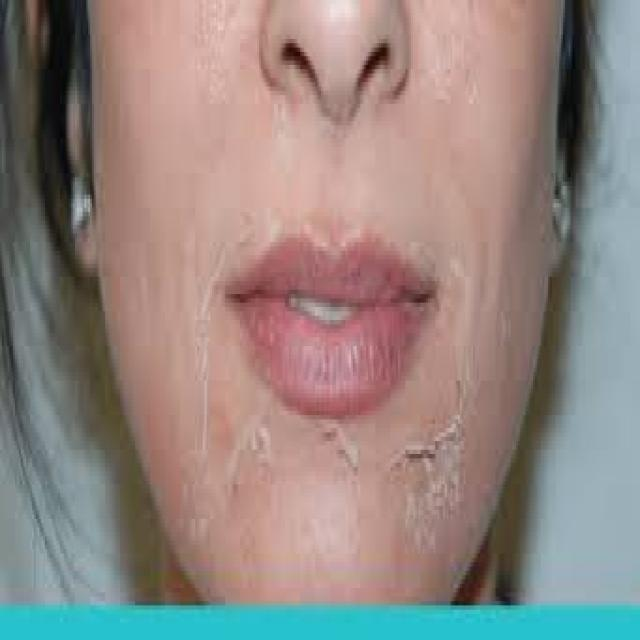Dry-Skin: (238, 416, 308, 487), (189, 273, 227, 402), (174, 459, 218, 543), (319, 413, 372, 482), (408, 442, 460, 506), (454, 366, 484, 438)
